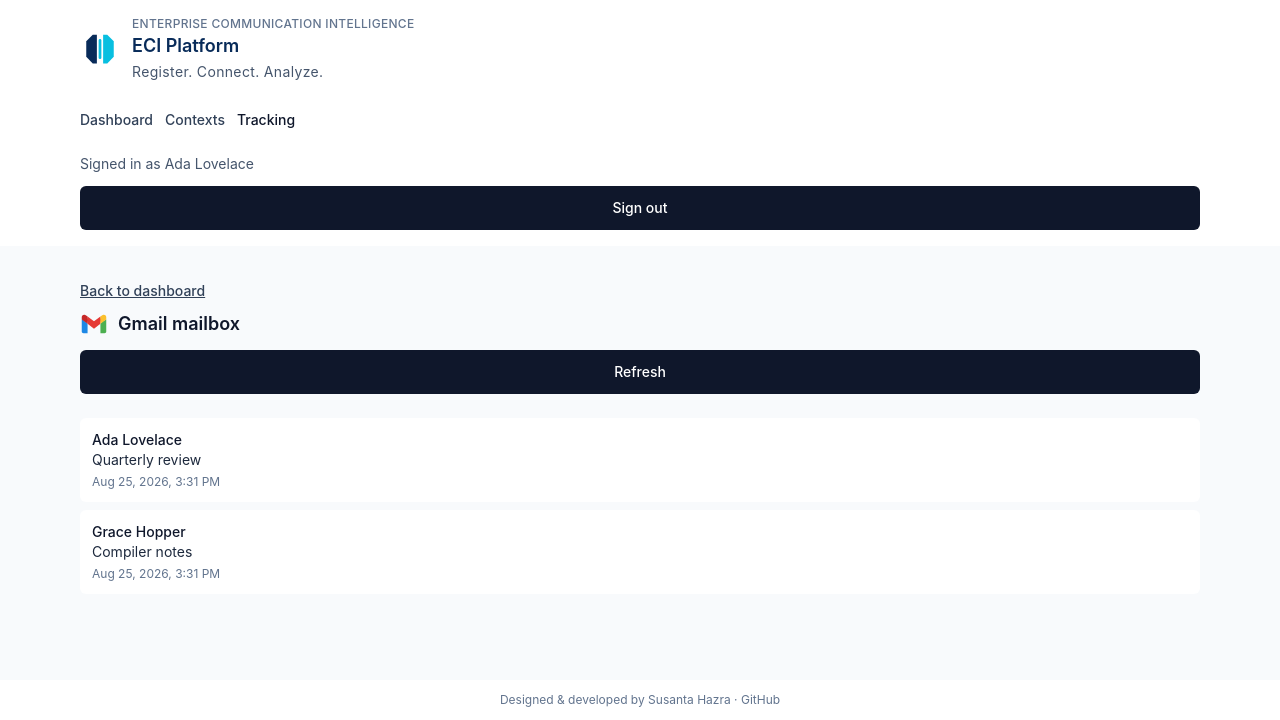
Scenario: attachment metadata › shows an empty attachments section when a message has none
Click the button "Ada Lovelace Quarterly review Aug 25, 2026, 3:31 PM".
click(137, 440)  # box [80, 418, 1200, 502]
(page scrolled)
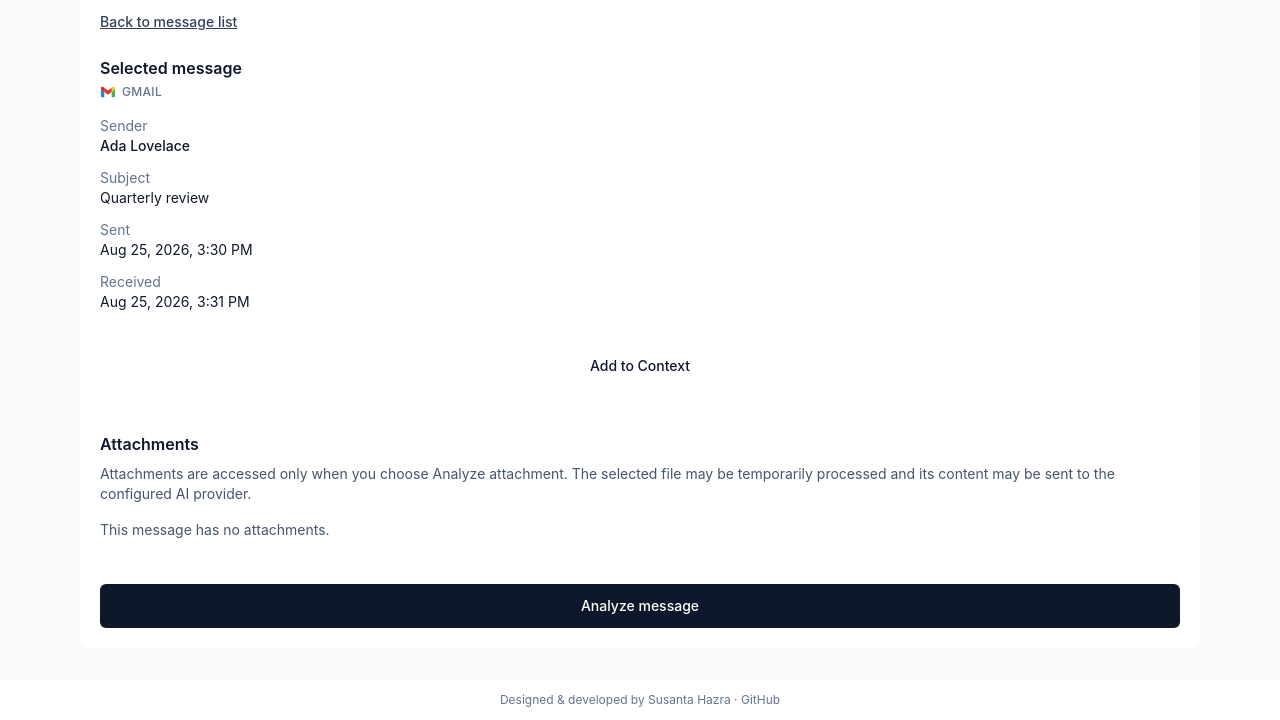
Now the heading "Attachments" is shown, box [100, 434, 199, 454]
Now the text with test id "attachments-empty" reads "This message has no attachments.", box [100, 521, 330, 538]
